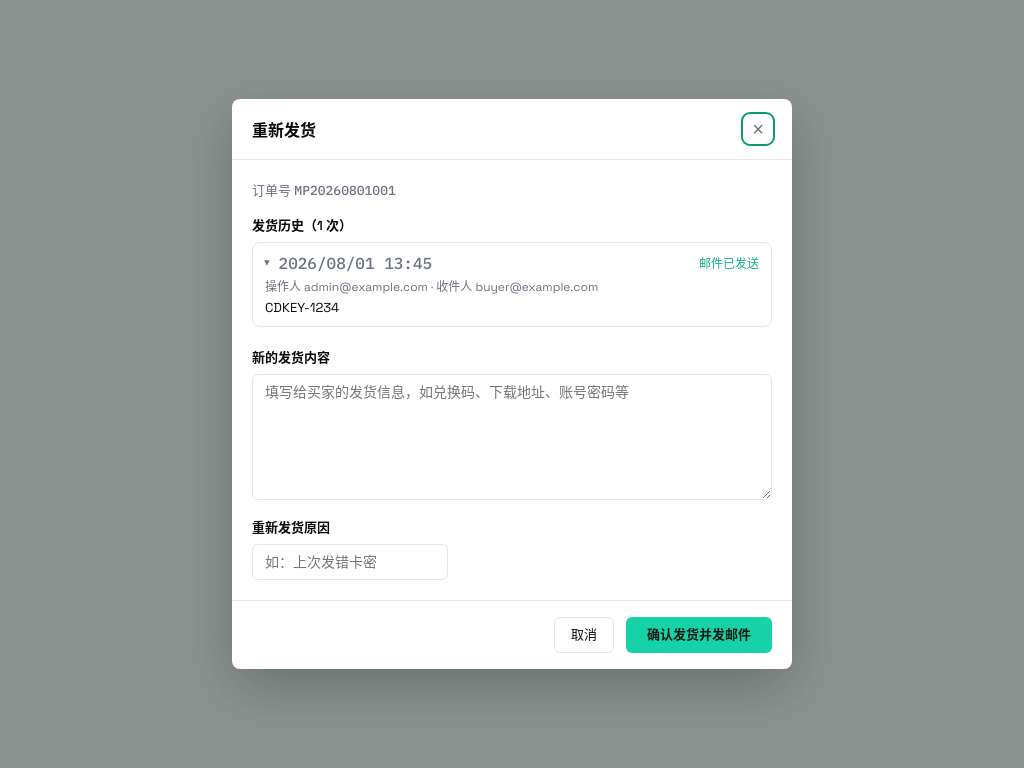
Test: 提交校验 › 重新发货没填原因时拦下——避免无痕覆盖上一次发货
Type "CDKEY-5678" into the text box with placeholder "填写给买家的发货信息，如兑换码、下载地址、账号密码等" at [512, 437], box [252,374,772,500]
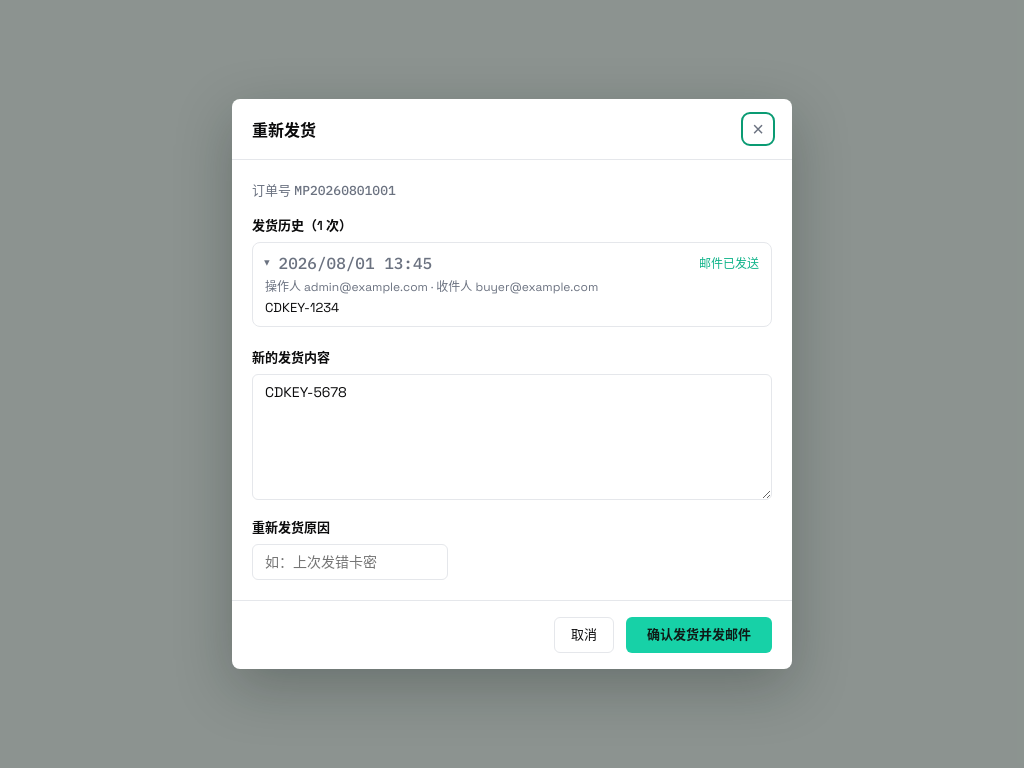
Click the button "确认发货并发邮件" at [699, 635], box [626,617,772,653]
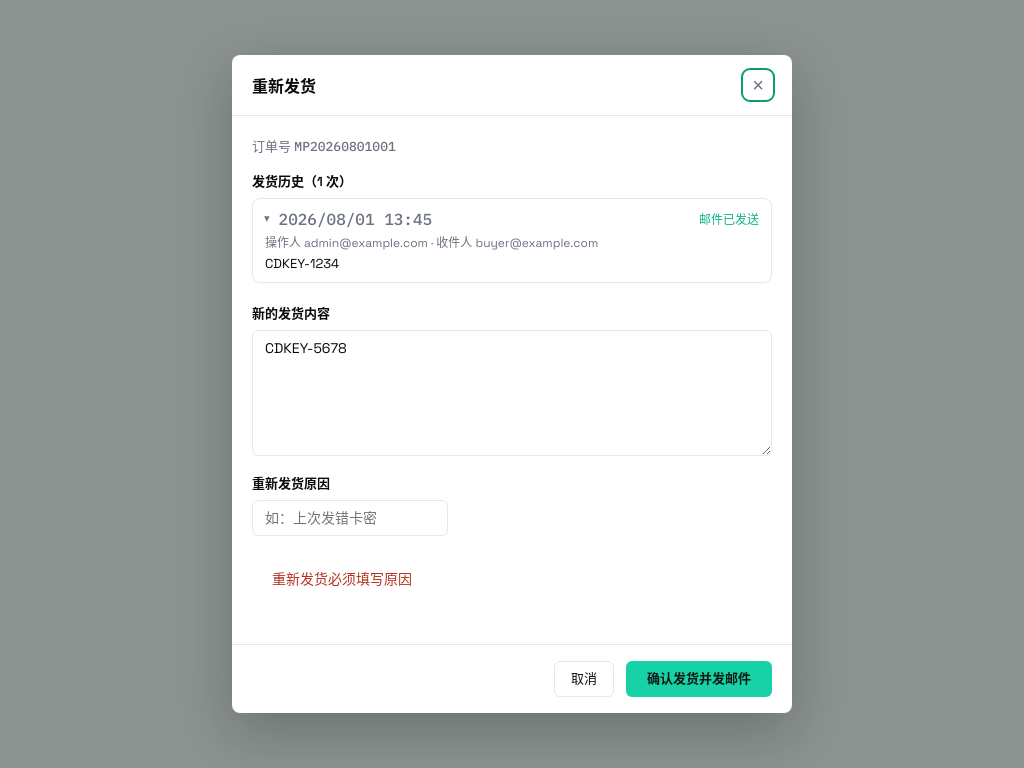
Expected: the text with class "error" reads "重新发货必须填写原因", [272,570,412,588]
